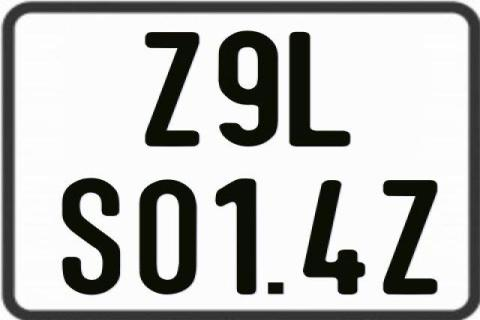0: (302, 178, 370, 294), (215, 30, 275, 148), (136, 180, 195, 300), (213, 178, 255, 294)
L: (289, 30, 351, 146)
S: (62, 176, 124, 298)
Z: (142, 30, 200, 150), (380, 178, 438, 298)
